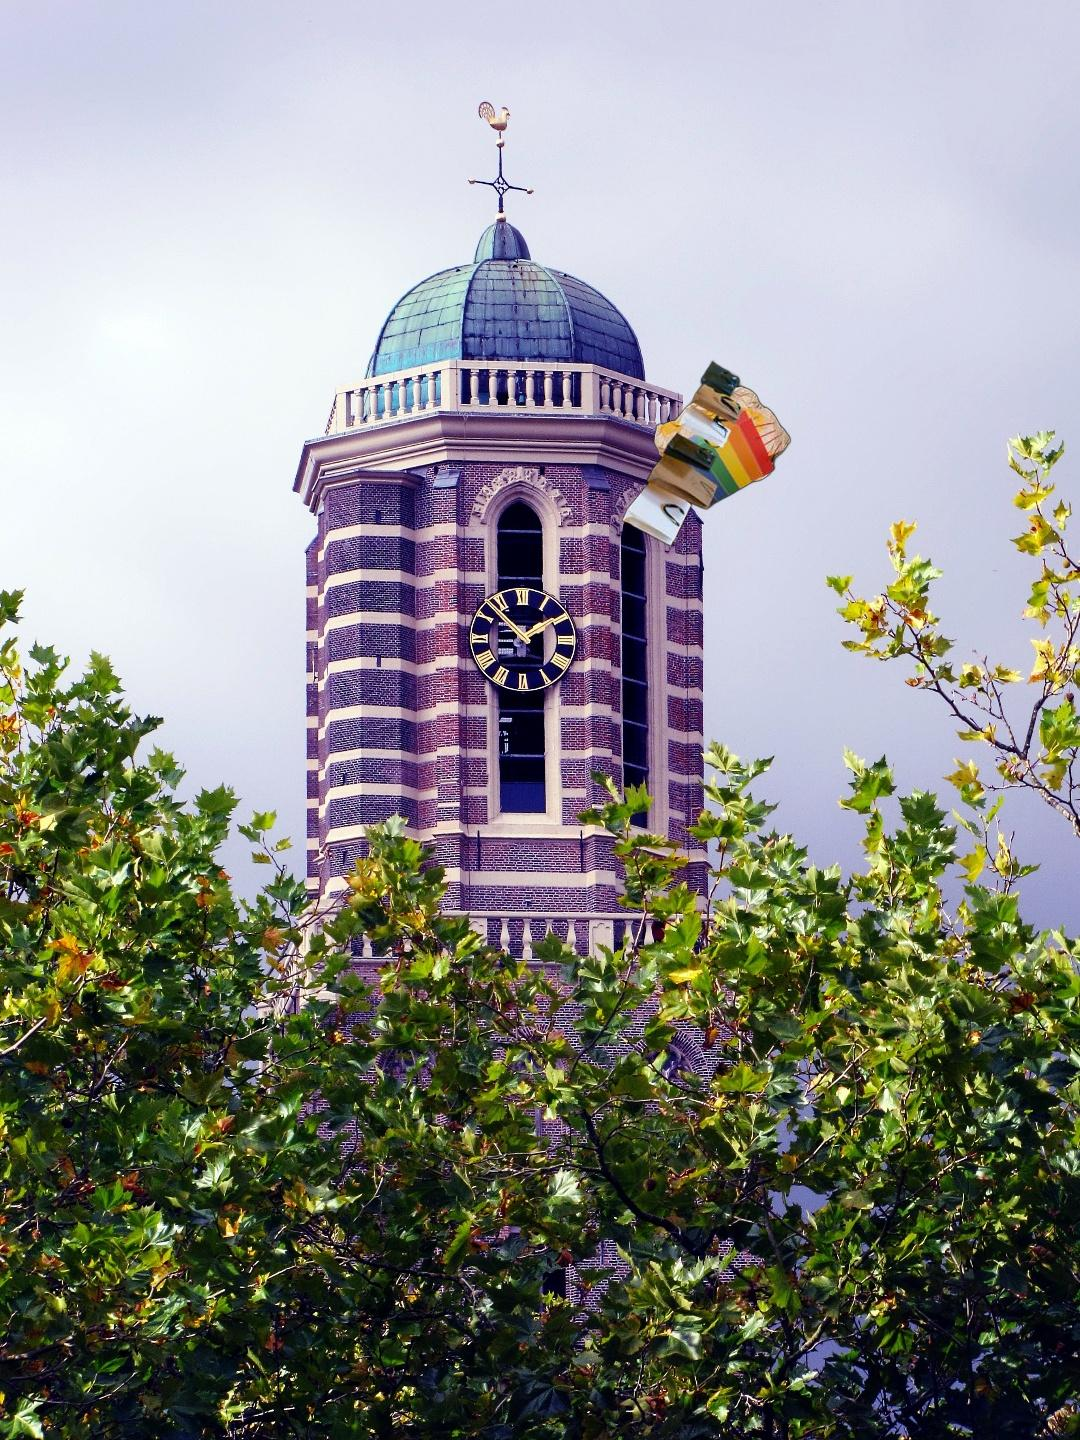paper-bag: (619, 358, 792, 549)
